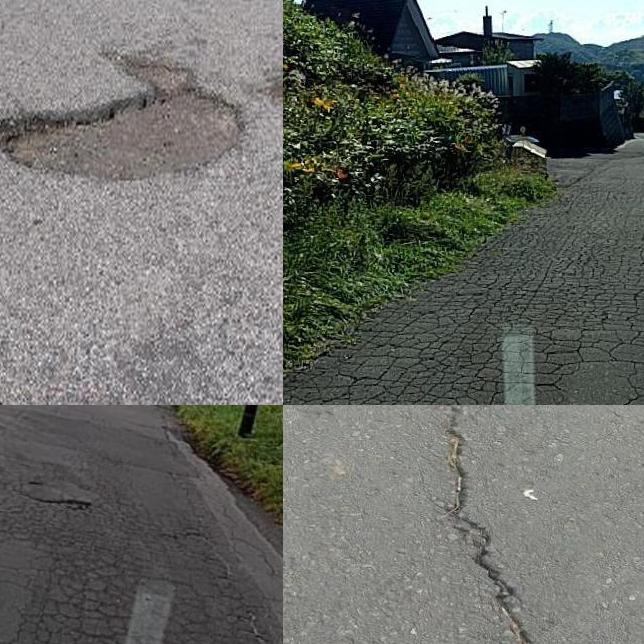Lubang: (0, 59, 238, 181)
Memanjang: (431, 405, 570, 644)
Retak Buaya: (283, 185, 644, 405), (0, 470, 258, 644)
